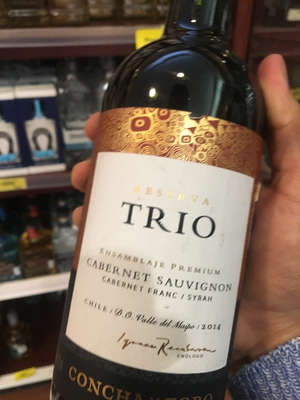trio cabernet sauvignon: (51, 23, 253, 400)
